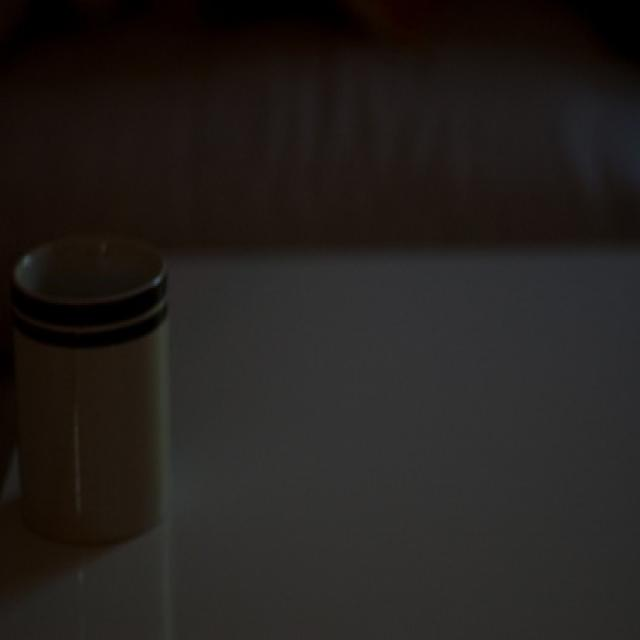Cup: (0, 217, 179, 532)
Table: (10, 203, 640, 640)
